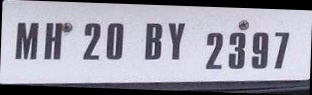character: (14, 21, 41, 61), (42, 20, 64, 62), (250, 30, 271, 70), (205, 31, 225, 71), (227, 30, 247, 70), (82, 22, 102, 61), (104, 22, 124, 61), (143, 22, 163, 61), (167, 21, 186, 60), (273, 30, 291, 69)
